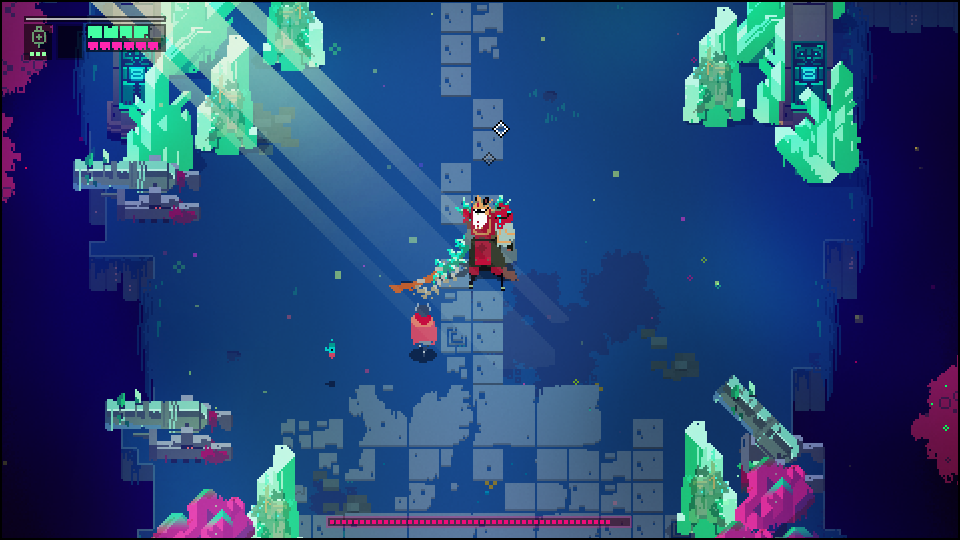hanged_man: (429, 193, 529, 292)
player: (407, 301, 438, 356)
